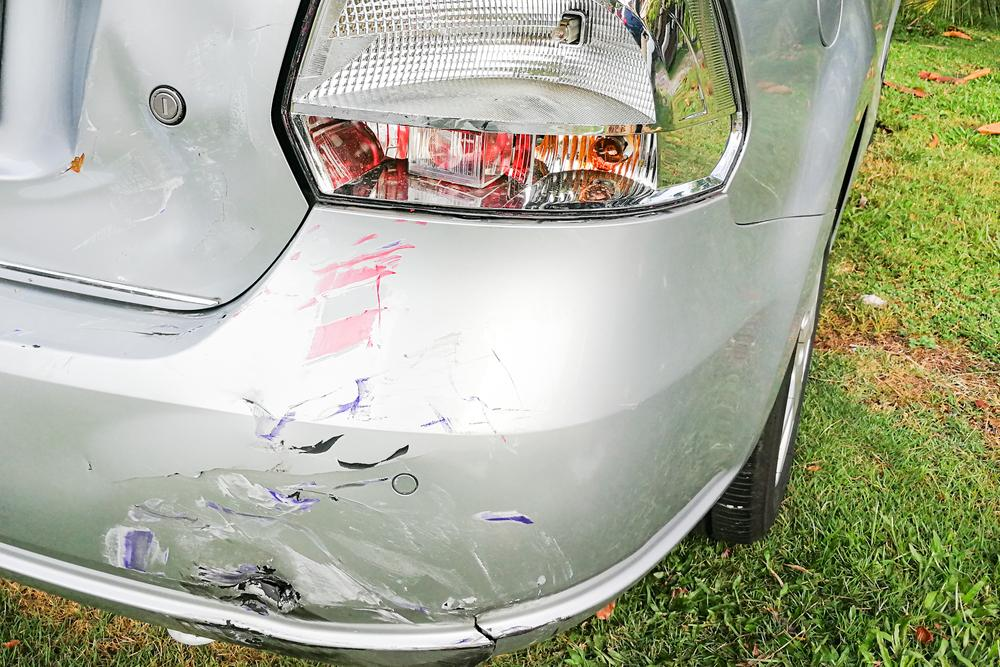dent: (44, 29, 272, 252), (197, 547, 295, 617)
lamp broken: (283, 0, 746, 219)
scratch: (107, 218, 583, 622)
